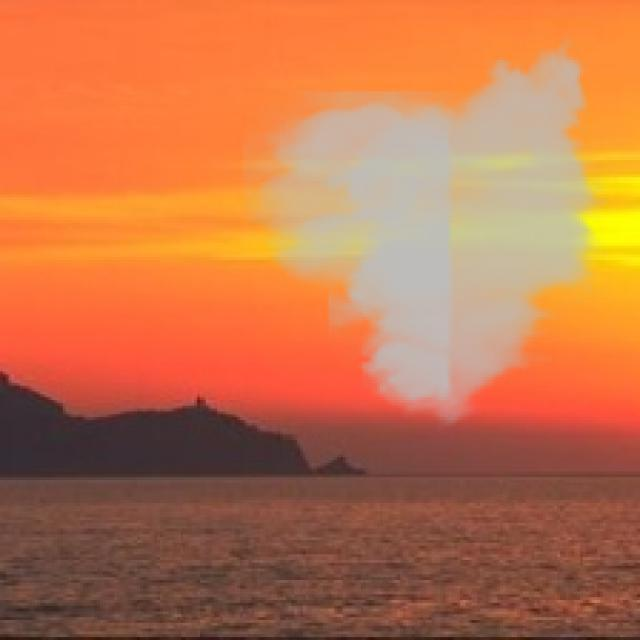Smoke: (243, 29, 612, 438)
